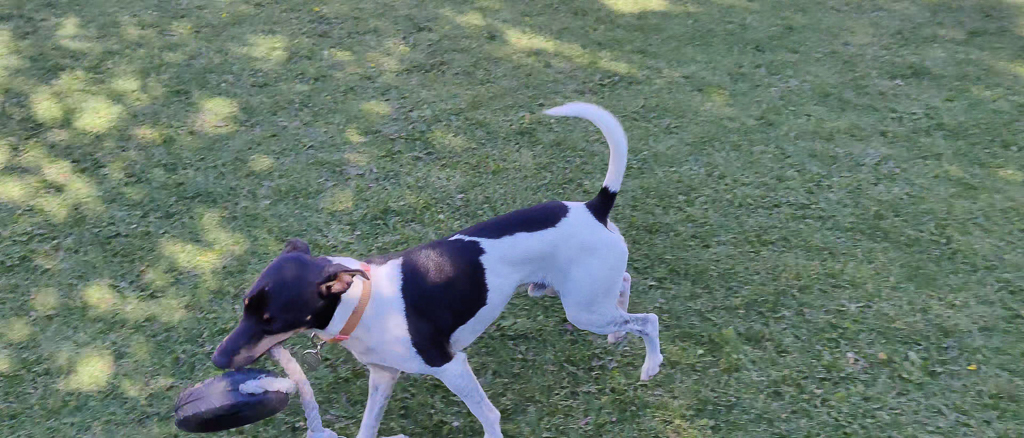Dog: (208, 89, 675, 438)
